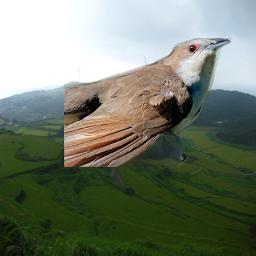Cuckoo: (64, 38, 231, 167)
